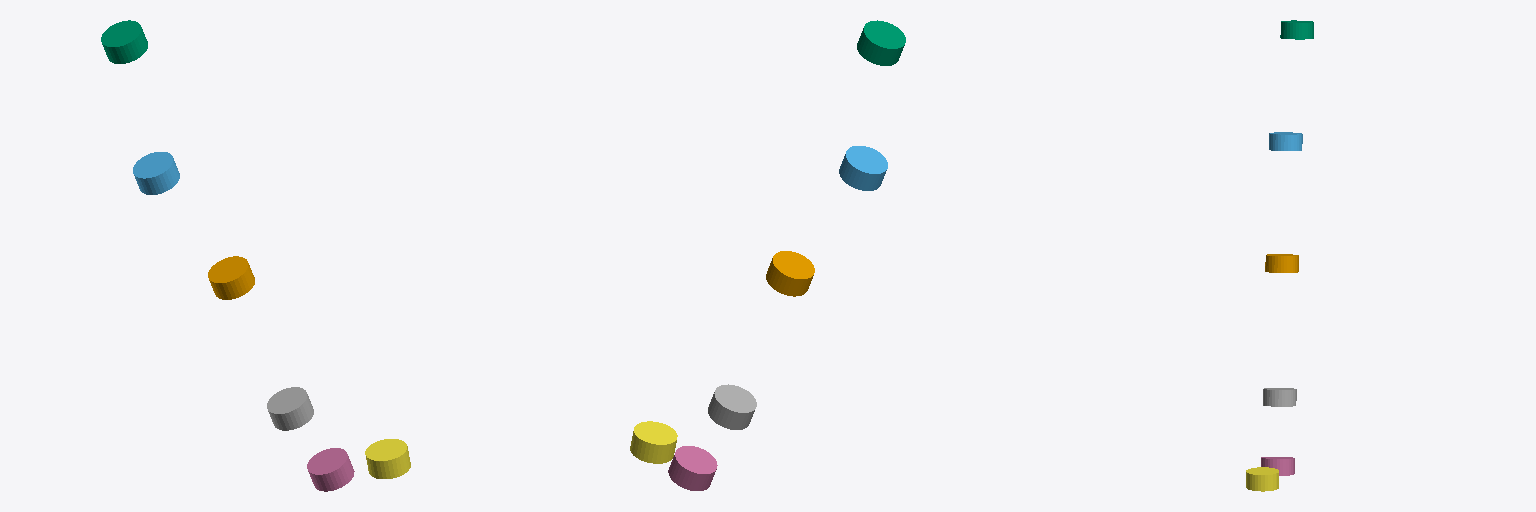
URDF robot description (hand):
<?xml version="1.0"?>
<robot name="hand">

    <!-- Base Link -->
    <link name="base_link">
        <inertial>
            <mass value="1.0" />
            <origin xyz="0 0 0" rpy="0 0 0"/>
            <inertia ixx="0.1" ixy="0" ixz="0" iyy="0.1" iyz="0" izz="0.1" />
        </inertial>
        <visual>
            <origin xyz="0.0 0.0 0" rpy="0.0 0.0 0.0"/>
            <geometry>
                <cylinder radius="0.0" length="0.0"/>
            </geometry>
        </visual>
    </link>

    <!-- Link 1 -->
    <link name="thumbp1_c_1">
        <inertial>
            <mass value="0.5" />
            <origin xyz="0 0 0" rpy="0 0 0"/>
            <inertia ixx="0.05" ixy="0" ixz="0" iyy="0.05" iyz="0" izz="0.05" />
        </inertial>
    </link>
    <link name="thumbp1_c_2">
        <inertial>
            <mass value="0.5" />
            <origin xyz="0 0 0" rpy="0 0 0"/>
            <inertia ixx="0.05" ixy="0" ixz="0" iyy="0.05" iyz="0" izz="0.05" />
        </inertial>
    </link>
    <link name="thumbp1_c_3">
        <inertial>
            <mass value="0.5" />
            <origin xyz="0 0 0" rpy="0 0 0"/>
            <inertia ixx="0.05" ixy="0" ixz="0" iyy="0.05" iyz="0" izz="0.05" />
        </inertial>
        <visual>
            <origin xyz="0.0 0.0 0.0" rpy="0.0 0.0 0.0"/>
            <geometry>
                <cylinder radius="0.005" length="0.005"/>
            </geometry>
        </visual>
    </link>

    <!-- Joint 1 -->
    <joint name="joint1_1" type="fixed">
        <parent link="base_link"/>
        <child link="thumbp1_c_1"/>
        <origin xyz="0 0 0" rpy="0 -0.191986 0"/>
        <axis xyz="0 0 0"/>
        <limit lower="-3.14" upper="3.14" effort="10" velocity="1"/>
    </joint>
    <joint name="joint1_2" type="fixed">
        <parent link="thumbp1_c_1"/>
        <child link="thumbp1_c_2"/>
        <origin xyz="0 0 0" rpy="0 0 -0.083339472"/>
        <axis xyz="0 0 0"/>
        <limit lower="-3.14" upper="3.14" effort="10" velocity="1"/>
    </joint>
    <joint name="joint1_3" type="revolute">
        <parent link="thumbp1_c_2"/>
        <child link="thumbp1_c_3"/>
        <origin xyz="0 0 0" rpy="0 0 0"/>
        <!-- -0.872665 0 0 -->
        <axis xyz="1 0 0"/>
        <limit lower="-0.785" upper="0" effort="10" velocity="1"/>
    </joint>

    <!-- Link 1 -->
    <link name="thumbp2_c_1">
        <inertial>
            <mass value="0.5" />
            <origin xyz="0 0 0" rpy="0 0 0"/>
            <inertia ixx="0.05" ixy="0" ixz="0" iyy="0.05" iyz="0" izz="0.05" />
        </inertial>
    </link>
    <link name="thumbp2_c_2">
        <inertial>
            <mass value="0.5" />
            <origin xyz="0 0 0" rpy="0 0 0"/>
            <inertia ixx="0.05" ixy="0" ixz="0" iyy="0.05" iyz="0" izz="0.05" />
        </inertial>
    </link>
    <link name="thumbp2_c_3">
        <inertial>
            <mass value="0.5" />
            <origin xyz="0 0 0" rpy="0 0 0"/>
            <inertia ixx="0.05" ixy="0" ixz="0" iyy="0.05" iyz="0" izz="0.05" />
        </inertial>
        <visual>
            <origin xyz="0.0 0.0 0.0" rpy="0.0 0.0 0.0"/>
            <geometry>
                <cylinder radius="0.005" length="0.005"/>
            </geometry>
        </visual>
    </link>

    <!-- Joint 2 -->
    <joint name="joint2_1" type="fixed">
        <parent link="thumbp1_c_3"/>
        <child link="thumbp2_c_1"/>
        <origin xyz="-0.0131755 0.00349373 0.00086368" rpy="0 0 0"/>
        <axis xyz="0 0 0"/>
        <limit lower="-3.14" upper="3.14" effort="10" velocity="1"/>
    </joint>
    <joint name="joint2_2" type="fixed">
        <parent link="thumbp2_c_1"/>
        <child link="thumbp2_c_2"/>
        <origin xyz="0 0 0" rpy="0 -0.174533 0"/>
        <axis xyz="0 0 0"/>
        <limit lower="-3.14" upper="3.14" effort="10" velocity="1"/>
    </joint>
    <joint name="joint2_3" type="revolute">
        <parent link="thumbp2_c_2"/>
        <child link="thumbp2_c_3"/>
        <origin xyz="0 0 0" rpy="0 0 0"/>
        <!-- 0 0 -0.349066 -->
        <axis xyz="0 0 1"/>
        <limit lower="-0.88" upper="0.0" effort="10" velocity="1"/>
    </joint>

    <!-- Link 2 -->
    <link name="thumbp3_c">
        <inertial>
            <mass value="0.5" />
            <origin xyz="0 0 0" rpy="0 0 0"/>
            <inertia ixx="0.05" ixy="0" ixz="0" iyy="0.05" iyz="0" izz="0.05" />
        </inertial>
        <visual>
            <origin xyz="0.0 0.0 0.0" rpy="0.0 0.0 0.0"/>
            <geometry>
                <cylinder radius="0.005" length="0.005"/>
            </geometry>
        </visual>
    </link>

    <!-- Joint 3 -->
    <joint name="joint3" type="revolute">
        <parent link="thumbp2_c_3"/>
        <child link="thumbp3_c"/>
        <origin xyz="-0.0034515 0 0.0204197" rpy="0 0 0"/>
        <!-- 0 -0.523599 0 -->
        <axis xyz="0 1 0"/>
        <limit lower="-0.70" upper="0.27" effort="10" velocity="1"/>
    </joint>

    <!-- Link 4 -->
    <link name="thumbp4_c">
        <inertial>
            <mass value="0.5" />
            <origin xyz="0 0 0" rpy="0 0 0"/>
            <inertia ixx="0.05" ixy="0" ixz="0" iyy="0.05" iyz="0" izz="0.05" />
        </inertial>
        <visual>
            <origin xyz="0.0 0.0 0.0" rpy="0.0 0.0 0.0"/>
            <geometry>
                <cylinder radius="0.005" length="0.005"/>
            </geometry>
        </visual>
    </link>

    <!-- Joint 4 -->
    <joint name="joint4" type="revolute">
        <parent link="thumbp3_c"/>
        <child link="thumbp4_c"/>
        <origin xyz="-0.0012 0 0.040" rpy="0 0 0"/>
        <!-- 0 1.22173 0 -->
        <axis xyz="0 1 0"/>
        <limit lower="-0" upper="1.57" effort="10" velocity="1"/>
    </joint>

    <!-- Link 5 -->
    <link name="thumbp5_c">
        <inertial>
            <mass value="0.5" />
            <origin xyz="0 0 0" rpy="0 0 0"/>
            <inertia ixx="0.05" ixy="0" ixz="0" iyy="0.05" iyz="0" izz="0.05" />
        </inertial>
        <visual>
            <origin xyz="0.0 0.0 0.0" rpy="0.0 0.0 0.0"/>
            <geometry>
                <cylinder radius="0.005" length="0.005"/>
            </geometry>
        </visual>
    </link>

    <!-- Joint 5 -->
    <joint name="joint5" type="revolute">
        <parent link="thumbp4_c"/>
        <child link="thumbp5_c"/>
        <origin xyz="-0.0072 0 0.036" rpy="0 0 0"/>
        <!-- 0 0.785398 0 -->
        <axis xyz="0 1 0"/>
        <limit lower="-0.90" upper="1.22" effort="10" velocity="1"/>
    </joint>

    <!-- Link 6 -->
    <link name="thumbp6_c">
        <inertial>
            <mass value="0.5" />
            <origin xyz="0 0 0" rpy="0 0 0"/>
            <inertia ixx="0.05" ixy="0" ixz="0" iyy="0.05" iyz="0" izz="0.05" />
        </inertial>
        <visual>
            <origin xyz="0.0 0.0 0.0" rpy="0.0 0.0 0.0"/>
            <geometry>
                <cylinder radius="0.005" length="0.005"/>
            </geometry>
        </visual>
    </link>

    <!-- Joint 6 -->
    <joint name="joint6" type="fixed">
        <parent link="thumbp5_c"/>
        <child link="thumbp6_c"/>
        <origin xyz="0.00570894 0.003393 0.0339805" rpy="0 0 0"/>
        <axis xyz="0 0 0"/>
        <limit lower="-3.14" upper="3.14" effort="10" velocity="1"/>
    </joint>
</robot>

--- Facts derived from the render (not from the file) ---
Views: 3 orthographic renders of the robot side by side, from view 1: azimuth 30°, elevation 25°; view 2: azimuth 150°, elevation 25°; view 3: azimuth 270°, elevation 25°.
Robot: hand — 11 links, 10 joints (5 revolute, 5 fixed); root link base_link; default pose: every joint at zero.
Links seen in each view (by area): view 1: thumbp2_c_3, thumbp3_c, thumbp4_c, thumbp6_c, thumbp5_c, thumbp1_c_3; view 2: thumbp4_c, thumbp2_c_3, thumbp6_c, thumbp3_c, thumbp5_c, thumbp1_c_3; view 3: thumbp1_c_3, thumbp4_c, thumbp3_c, thumbp5_c, thumbp6_c.
Boxes of the visible links, x1,y1,x2,y2 form: thumbp2_c_3: (307,448,354,491); thumbp3_c: (267,387,313,430); thumbp4_c: (208,256,254,299); thumbp6_c: (101,20,147,63); thumbp5_c: (133,152,179,194); thumbp1_c_3: (365,439,410,478); thumbp4_c: (766,251,814,296); thumbp2_c_3: (668,446,717,490); thumbp6_c: (857,20,905,65); thumbp3_c: (708,384,756,429); thumbp5_c: (839,146,887,190); thumbp1_c_3: (630,421,677,463); thumbp1_c_3: (1246,467,1278,491); thumbp4_c: (1265,254,1298,272); thumbp3_c: (1263,388,1296,406); thumbp5_c: (1269,132,1302,150); thumbp6_c: (1280,20,1313,39).
Size in the robot's own frame: 0.0758 by 0.0203 by 0.1279 metres.
Geometry: primitives only (box / cylinder / sphere), no mesh files.
